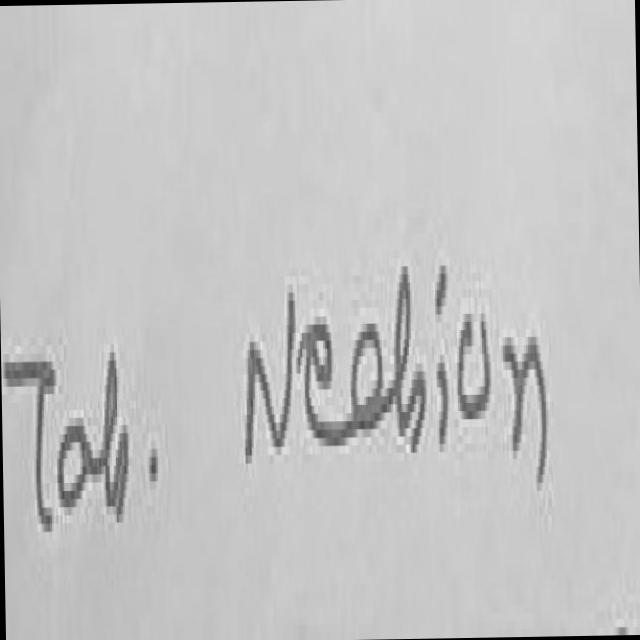N: (245, 296, 294, 459)
T: (3, 361, 58, 528)
a: (57, 417, 103, 523)
b: (395, 266, 428, 476), (106, 352, 127, 518)
e: (303, 316, 343, 441)
i: (443, 354, 449, 447), (437, 265, 446, 310)
n: (505, 336, 547, 478)
o: (457, 304, 491, 426), (353, 323, 383, 424)
